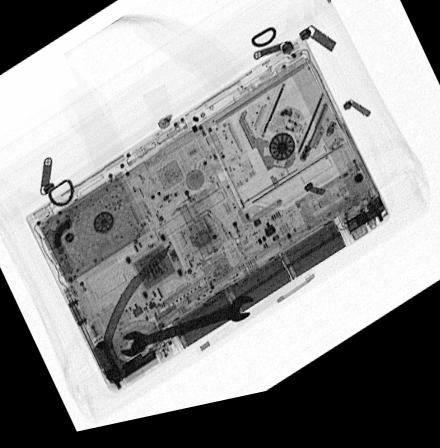Wrench: (117, 306, 256, 365)
